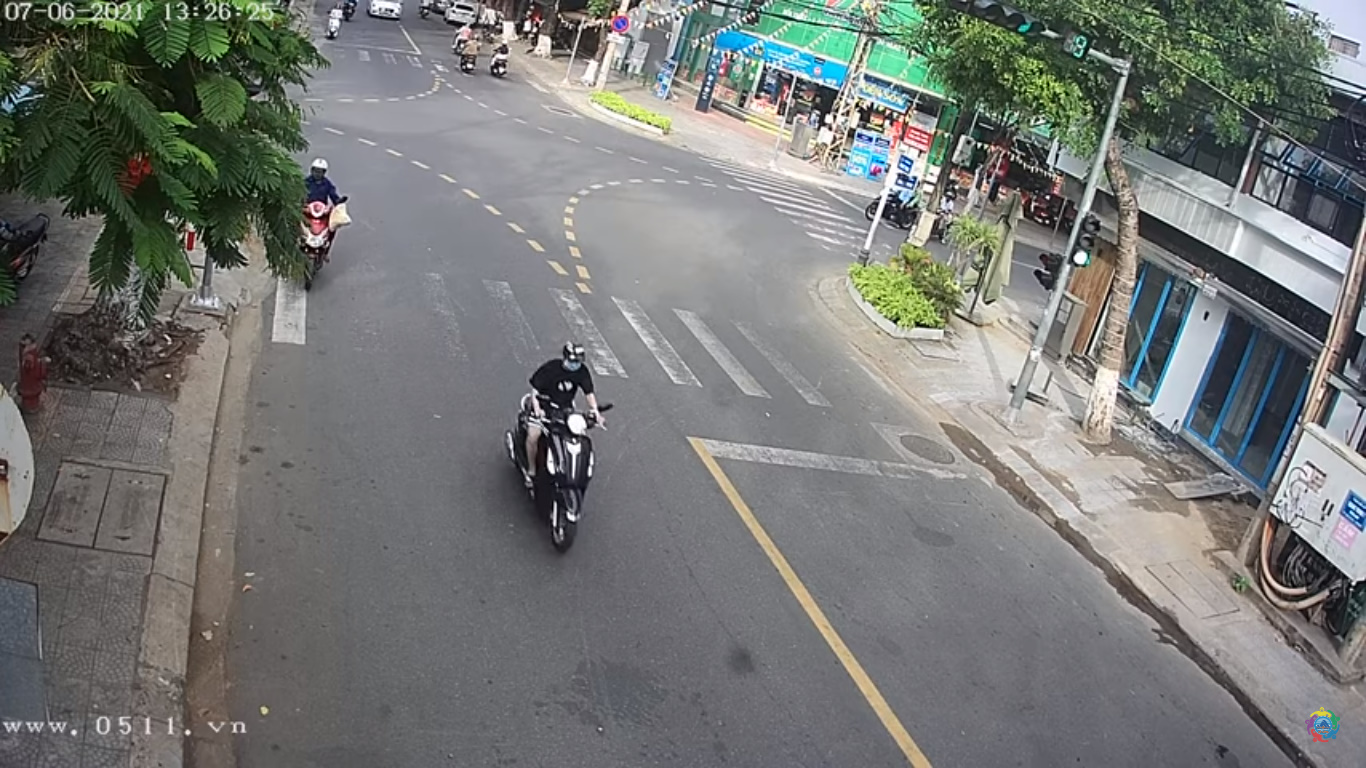motorbike: (506, 348, 612, 546), (289, 164, 346, 286)
